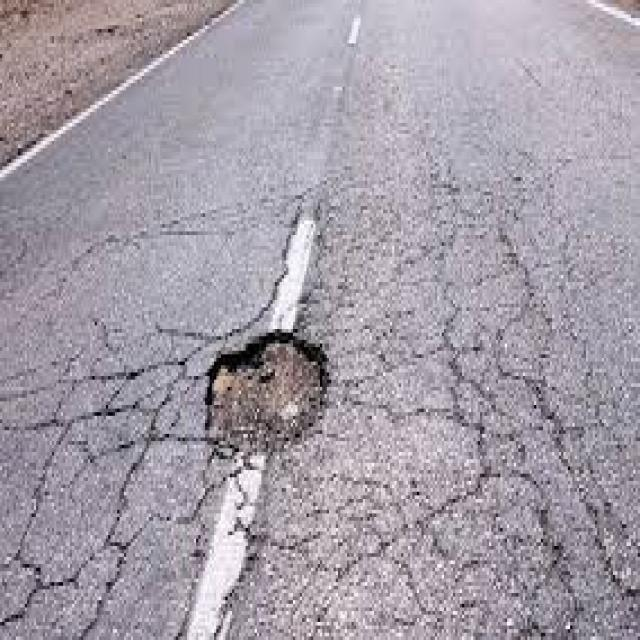Pothole: (210, 332, 325, 452)
